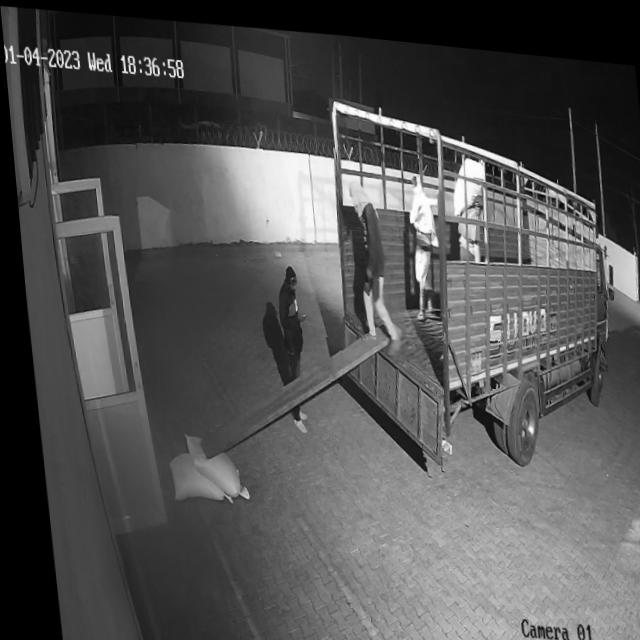sack: (176, 427, 239, 496), (159, 447, 224, 502), (445, 145, 484, 209)
